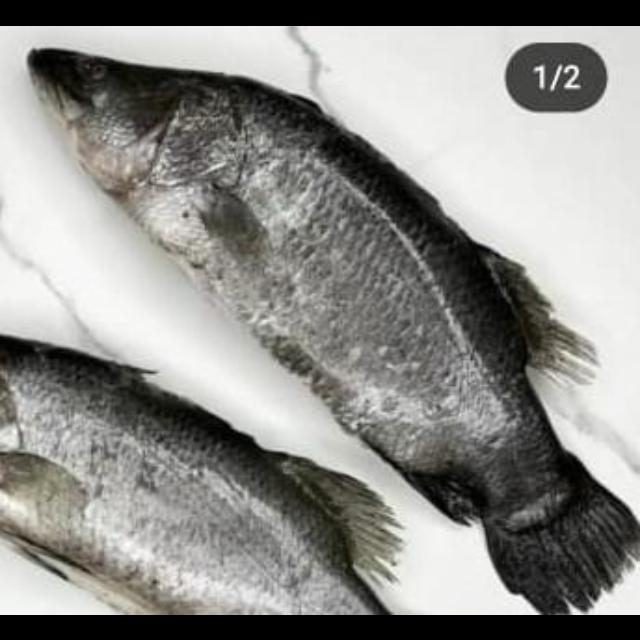Seabass: (28, 44, 638, 614)
